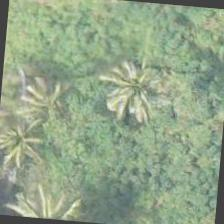Kelapa_Sawit: (85, 40, 183, 138), (0, 54, 95, 153), (0, 27, 69, 123)
